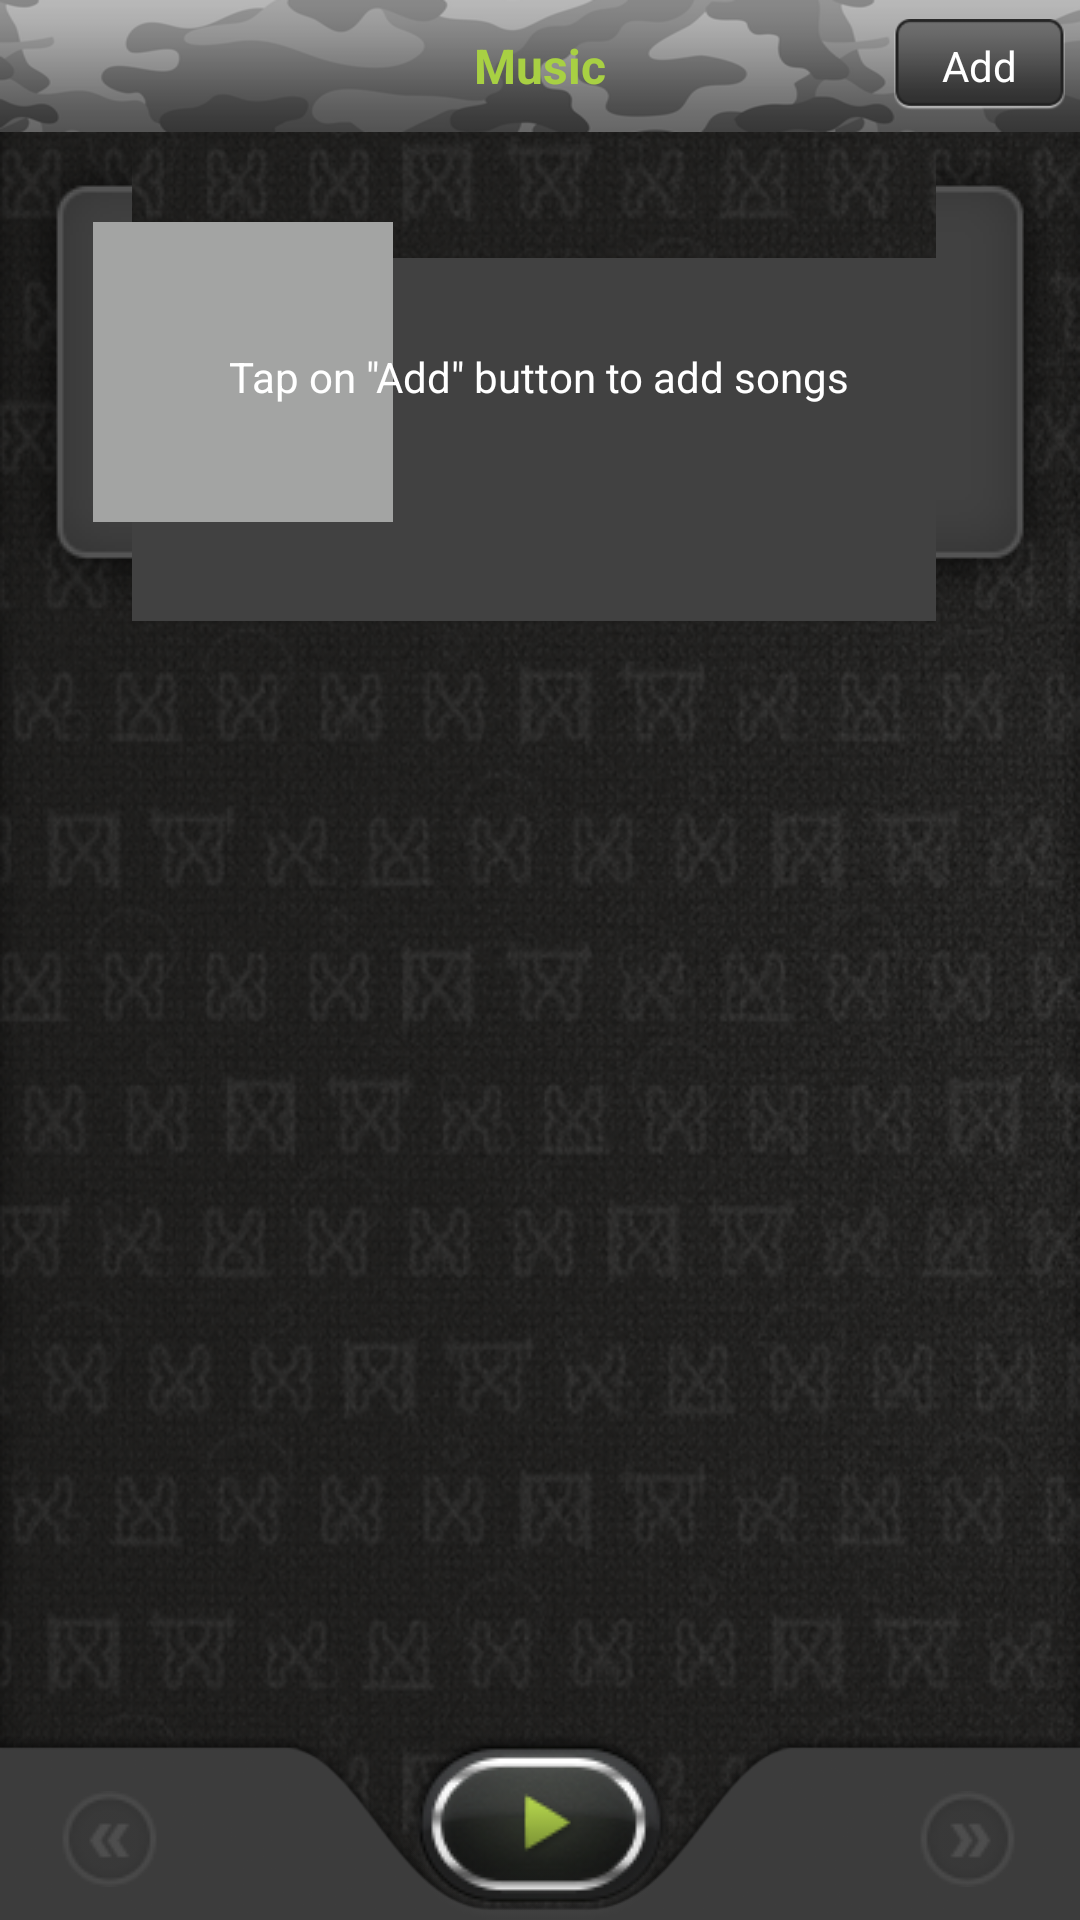

Screen size 1080x1920. Icon name, then its center in pixels as point (x, y):
music play: point (540, 1820)
